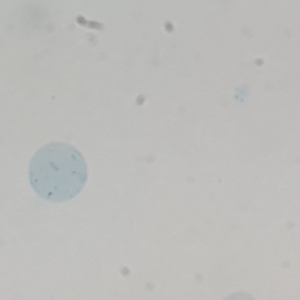punctate reticulocyte: (27, 142, 89, 204)
